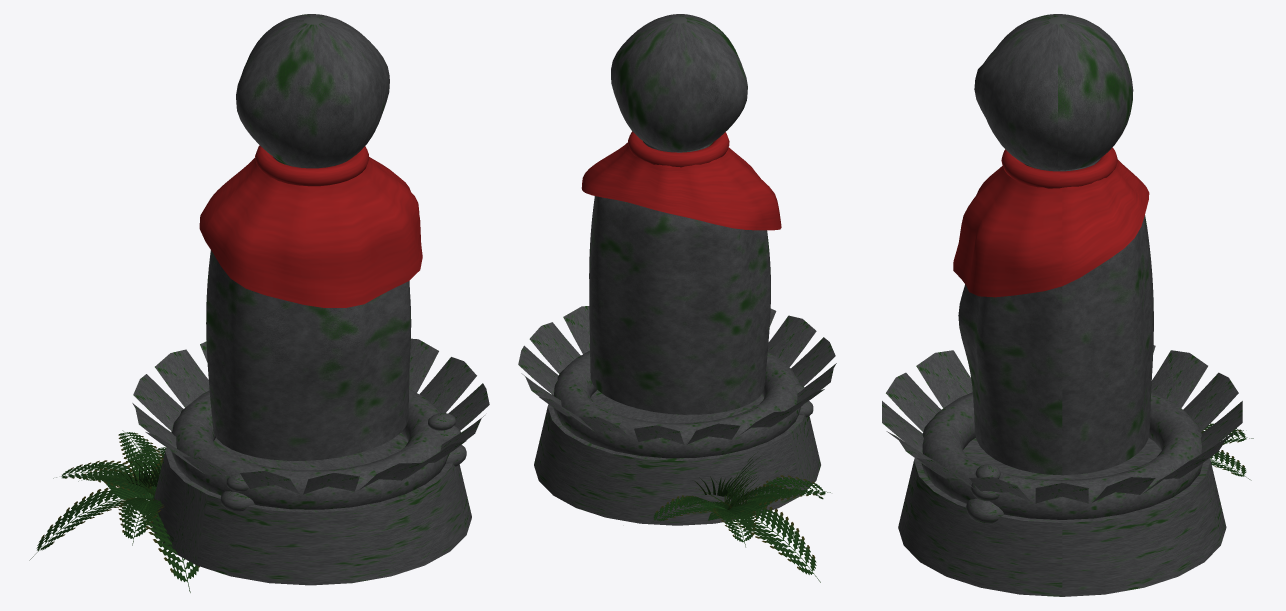
Rendered from Prop_JizoStatue.fbx.
3 renders of one model, left to right at view 1: azimuth 30°, elevation 25°; view 2: azimuth 150°, elevation 25°; view 3: azimuth 270°, elevation 25°, orthographic. The views are drawn at different scales.
Visible parts, largest first — view 1: Prop_JizoStatue; view 2: Prop_JizoStatue; view 3: Prop_JizoStatue.
Part boxes in pixels (left/top/right/bottom): Prop_JizoStatue: left=29, top=14, right=489, bottom=592; Prop_JizoStatue: left=518, top=14, right=836, bottom=582; Prop_JizoStatue: left=882, top=14, right=1253, bottom=596.
Size of the model in its own units: 0.8537 by 1.14 by 0.7358.
